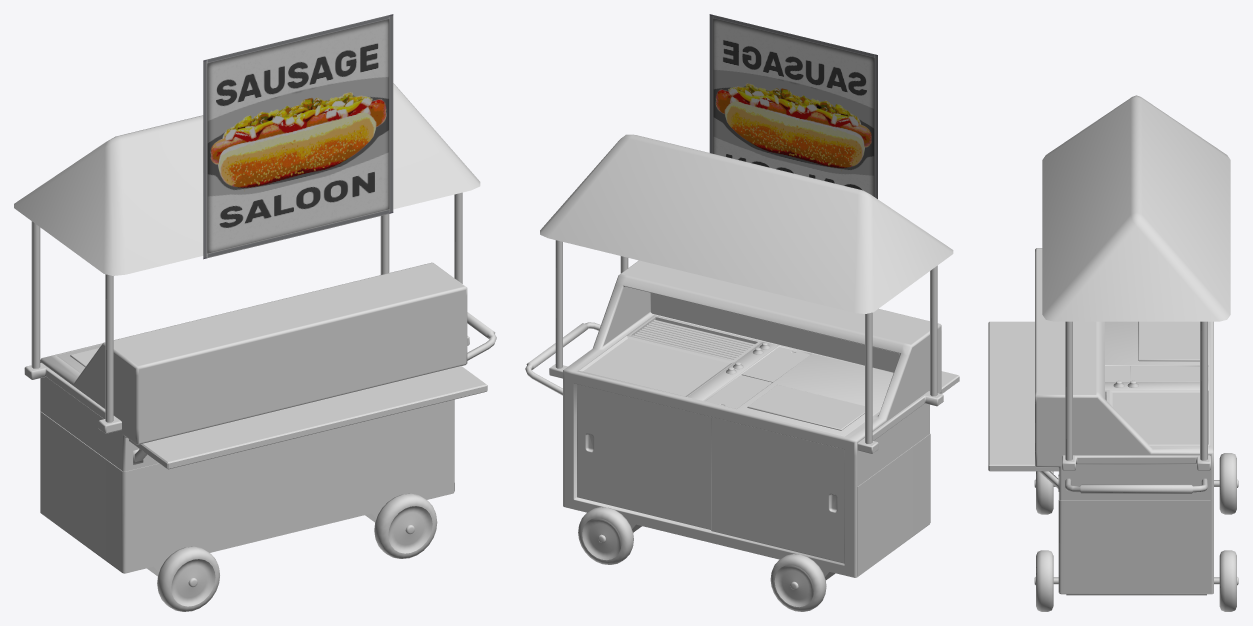
The model's file is foodcart_3_export.fbx.
3 views of the same model, side by side, from view 1: azimuth 30°, elevation 25°; view 2: azimuth 150°, elevation 25°; view 3: azimuth 270°, elevation 25° (orthographic). The views are drawn at different scales.
Parts seen in each view (by area): view 1: Cube.001; view 2: Cube.001; view 3: Cube.001.
Part boxes in pixels (x1=…): Cube.001: x1=14, y1=14, x2=496, y2=611; Cube.001: x1=525, y1=14, x2=959, y2=611; Cube.001: x1=988, y1=95, x2=1238, y2=611.
Bounding box in the file's own units: 319 × 412 × 185.
